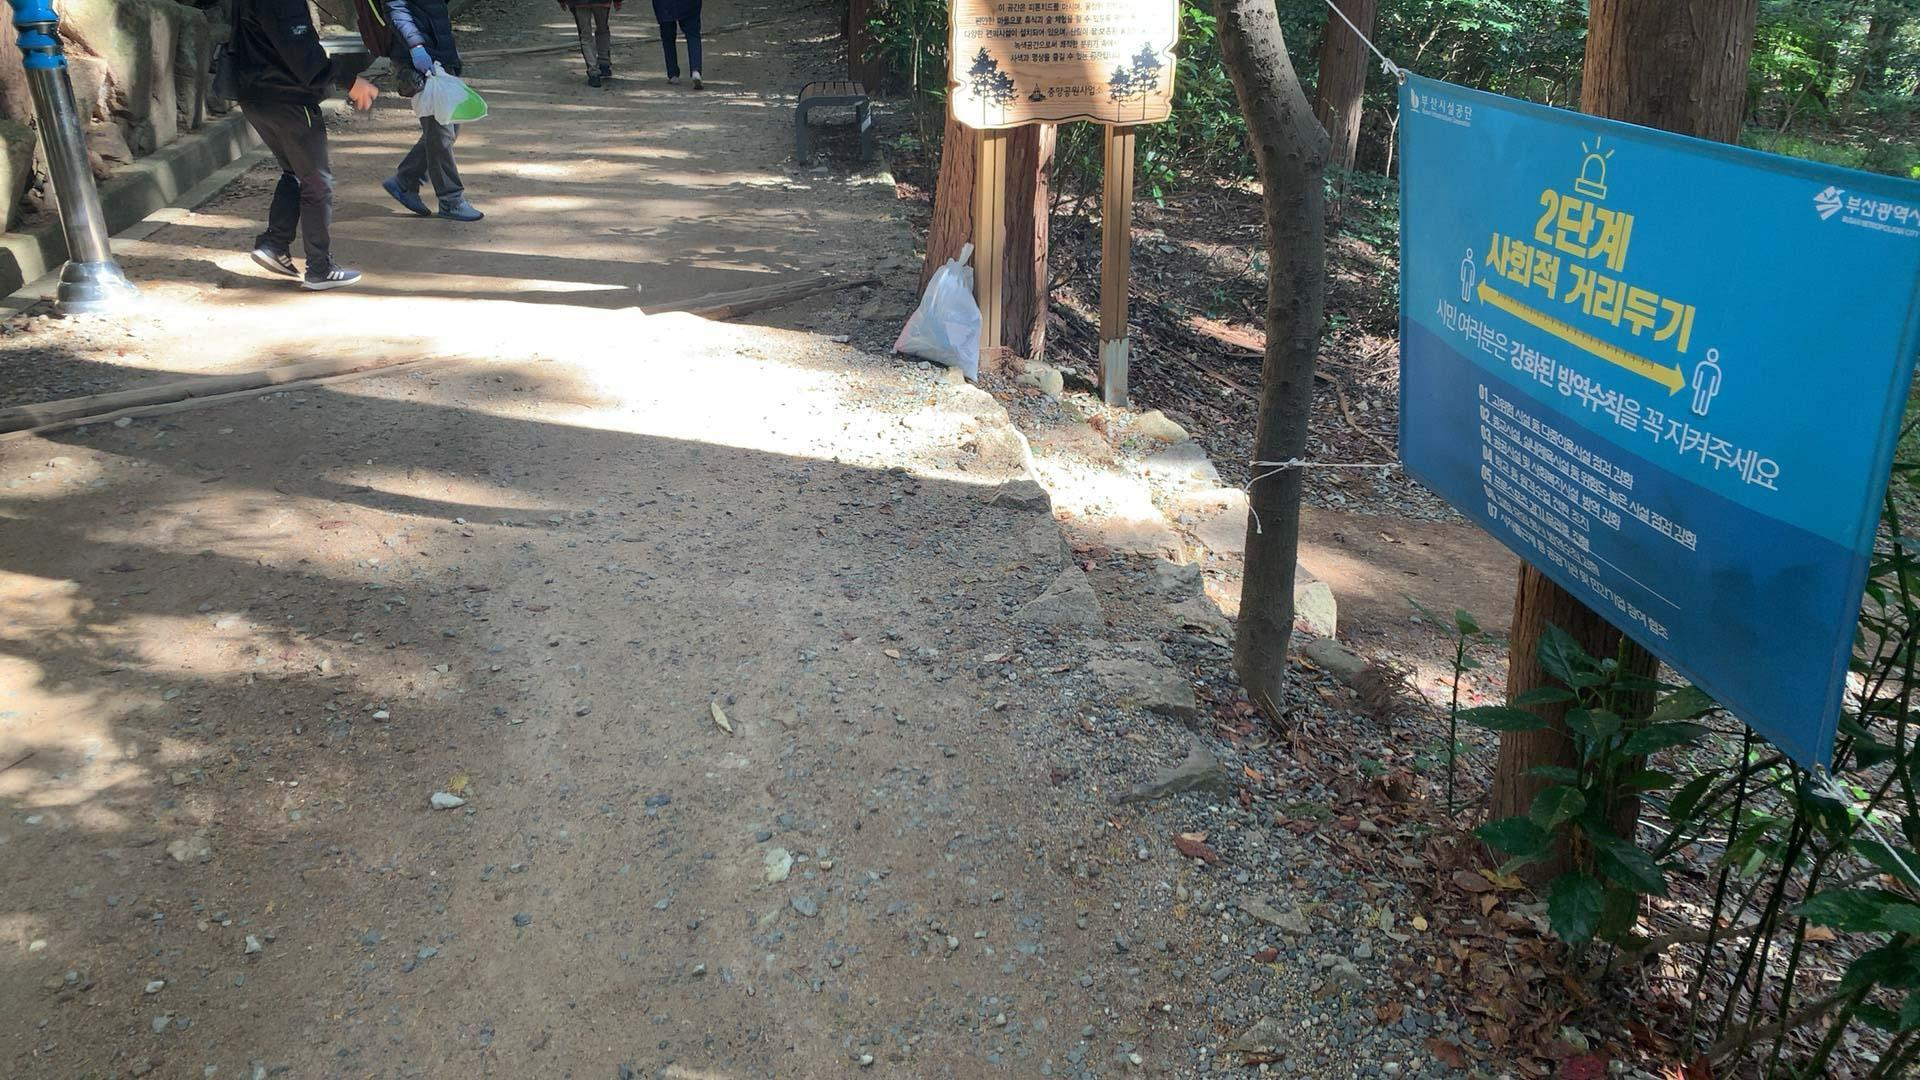white_bag: (885, 236, 986, 384)
